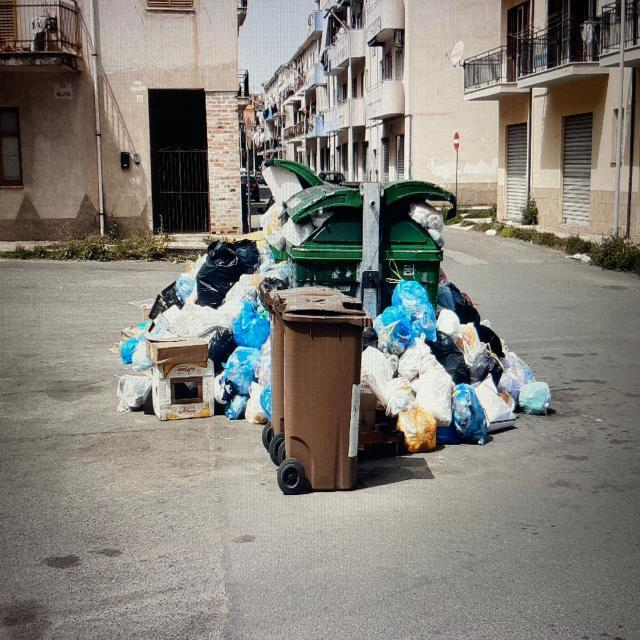Trashbag: (193, 246, 236, 308), (449, 282, 481, 325), (231, 238, 261, 280), (208, 328, 238, 364), (475, 353, 503, 384), (443, 357, 466, 385), (431, 331, 454, 358)
